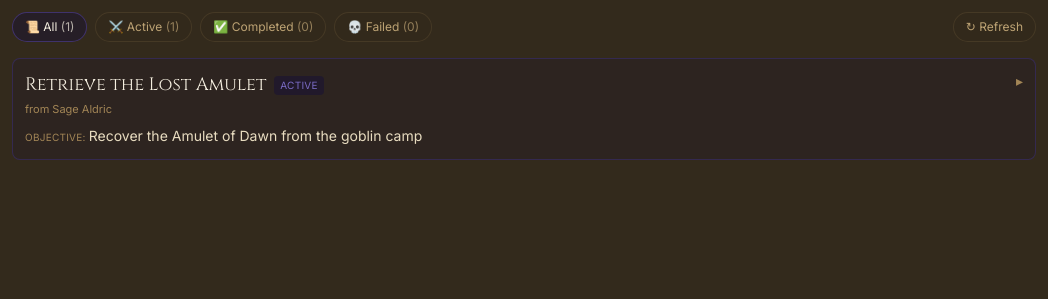
Test: QuestLogPanel › renders a quest card with its objective, giver, and reward
The width and height of the screenshot is (1048, 299).
Expected: the text "Objective: Recover the Amulet of Dawn from the goblin camp" is shown, [25, 126, 422, 144]
Expected: the text "from Sage Aldric" is shown, [25, 102, 112, 116]
Expand to reveal description + reward.
Click the button "Retrieve the Lost Amulet active from Sage Aldric ▸" at (146, 84), box [25, 71, 1023, 118]
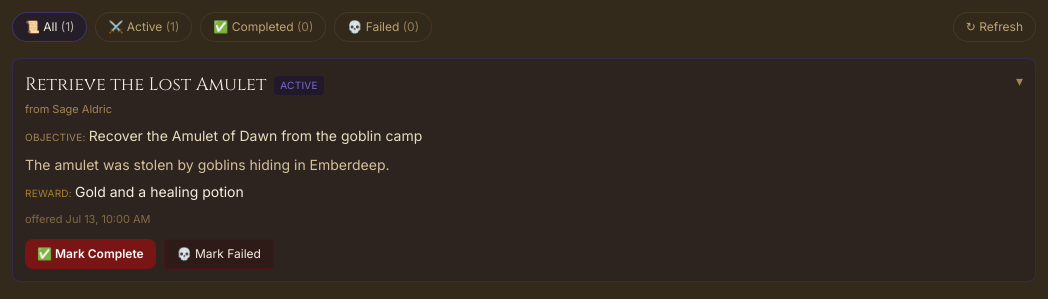
Expected: the text "The amulet was stolen by goblins hiding in Emberdeep." is shown, [25, 156, 390, 172]
Expected: the text "Reward: Gold and a healing potion" is shown, [25, 183, 244, 200]
